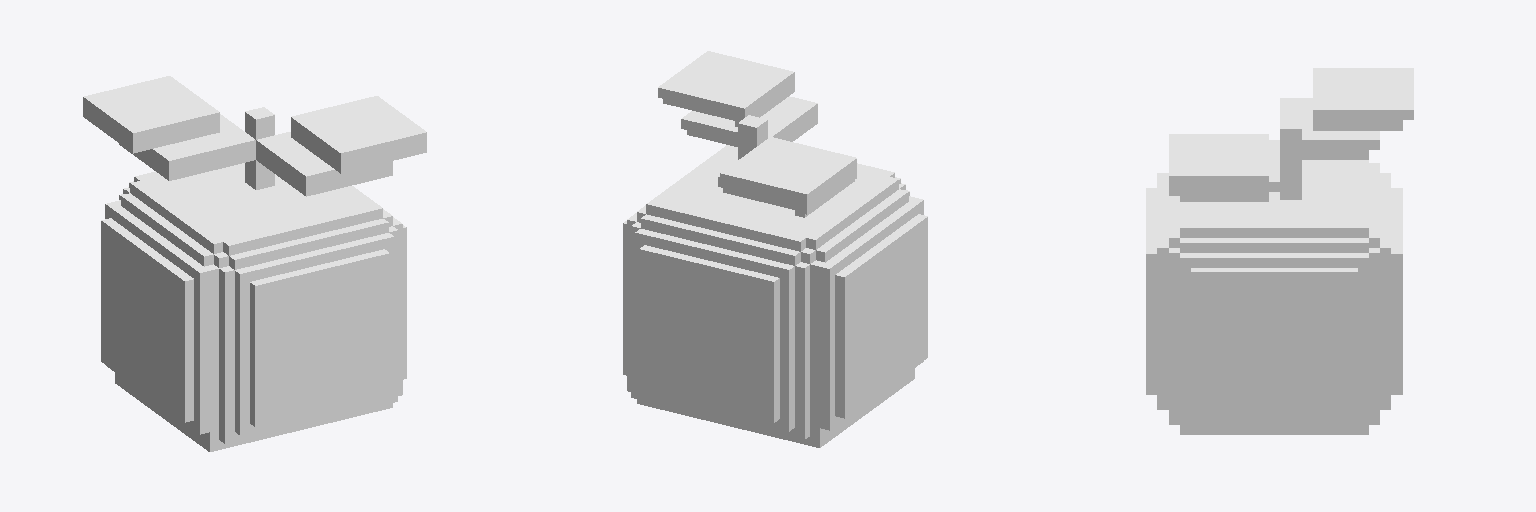
Rendered from wumpa.obj.
3 renders of one model, left to right at view 1: azimuth 30°, elevation 25°; view 2: azimuth 150°, elevation 25°; view 3: azimuth 270°, elevation 25°, orthographic.
Visible parts, largest first — view 1: object 1; view 2: object 1; view 3: object 1.
Part boxes in pixels (x1,y1,x2,y2): object 1: (83, 76, 426, 451); object 1: (623, 51, 927, 447); object 1: (1146, 68, 1413, 434).
Bounding box in the file's own units: 2.4 × 2.7 × 2.4.